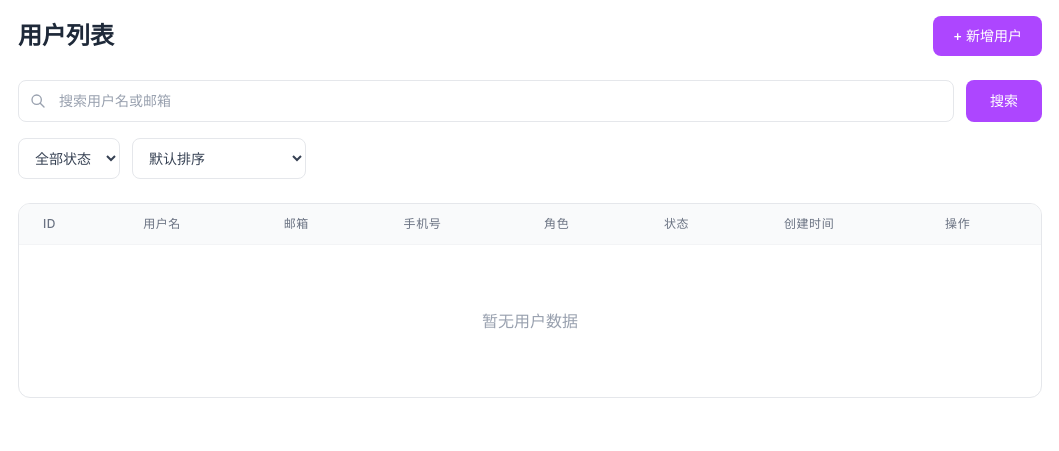
Scenario: UserListPage — 搜索逻辑 › 清除搜索 › 搜索无结果时显示"清除搜索"按钮，点击后重置
Type "nonexistent" into the field with placeholder "搜索用户名或邮箱" at (486, 101), box [18,80,954,122]
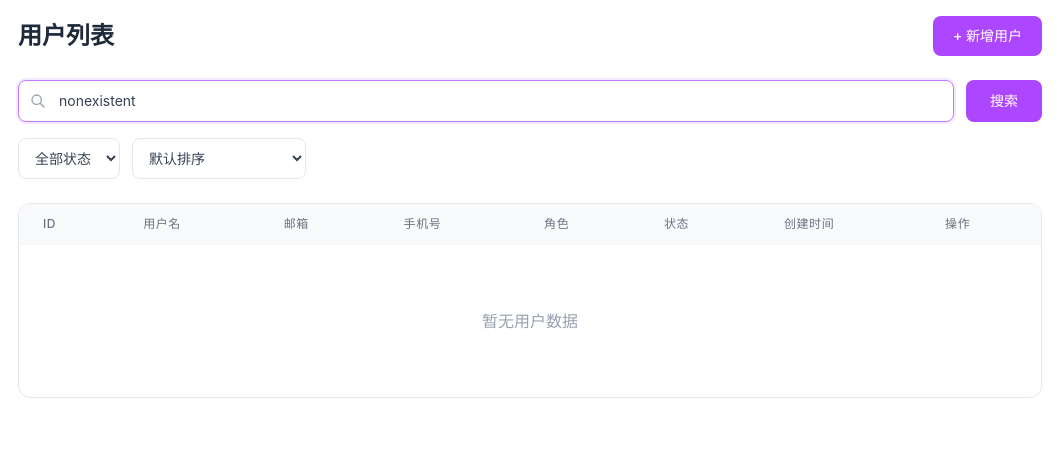
Click the button "搜索" at (1004, 101), box [966,80,1042,122]
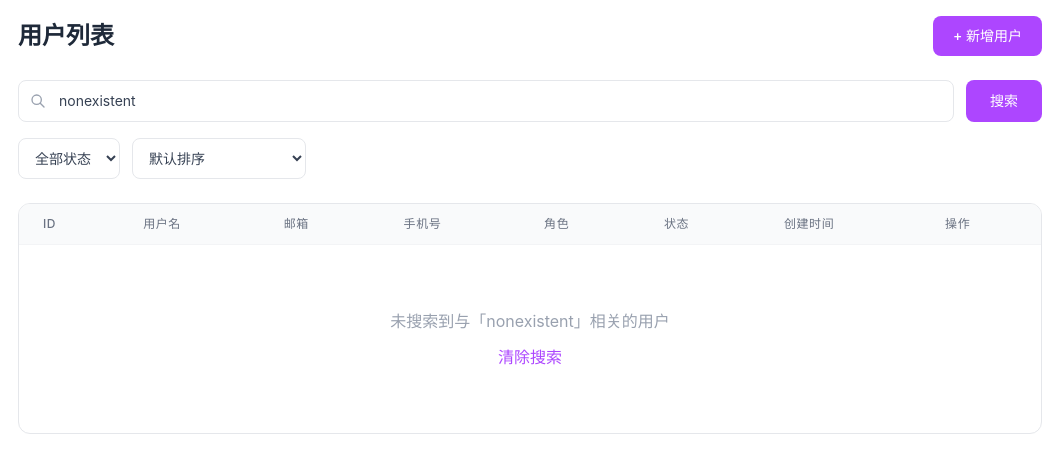
Result: the button "清除搜索" is shown
Click the button "清除搜索" at (530, 357), box [498,345,562,369]
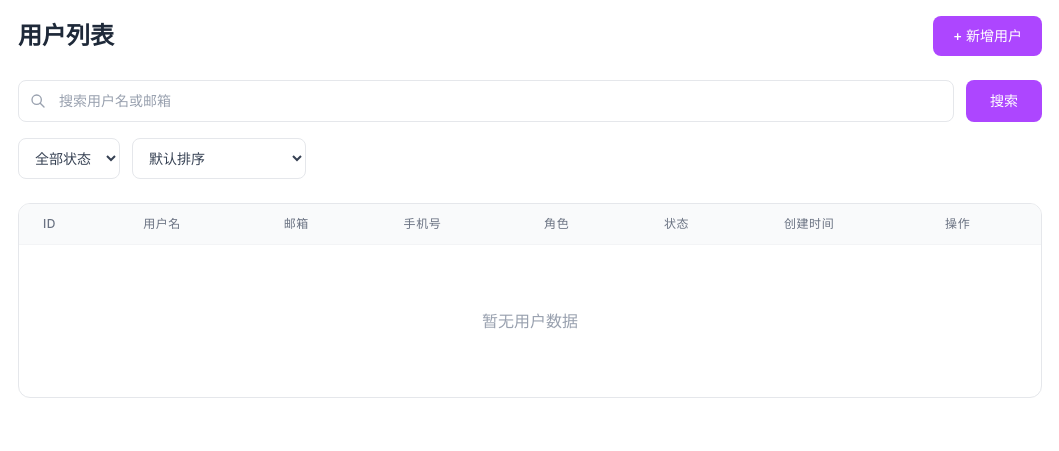
Result: the field with placeholder "搜索用户名或邮箱" is empty at [18,80,954,122]
